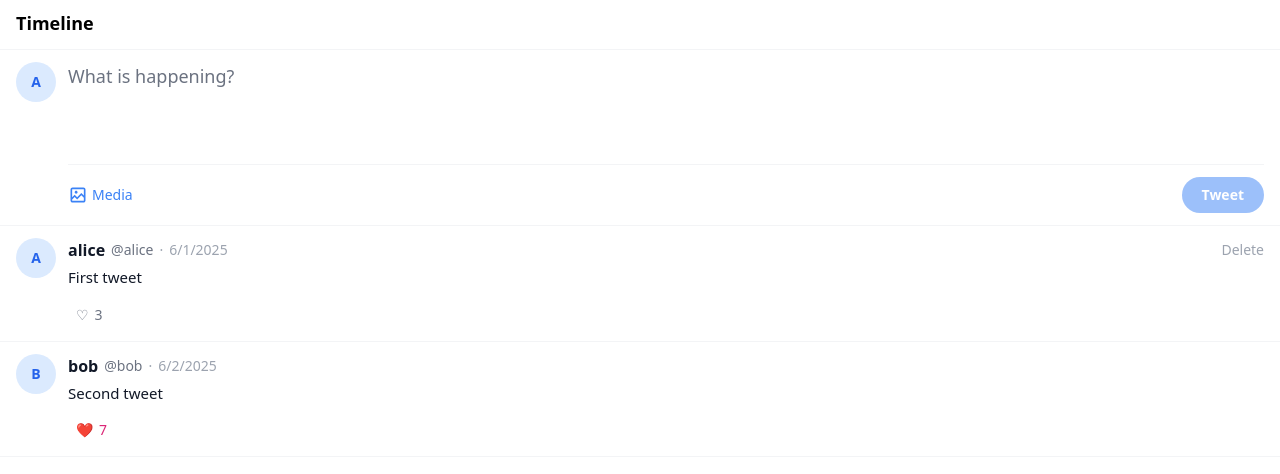
TimelinePage › should remove tweet from UI after successful delete
Expected: the text "First tweet" is shown, [68,267,142,287]
Expected: the text "Second tweet" is shown, [68,382,163,402]
What coordinates should you click on to do the following:
click the button with test id "delete-tweet-button"
I would click on:
 (1243, 250)
Its box is [1221,240,1264,260].
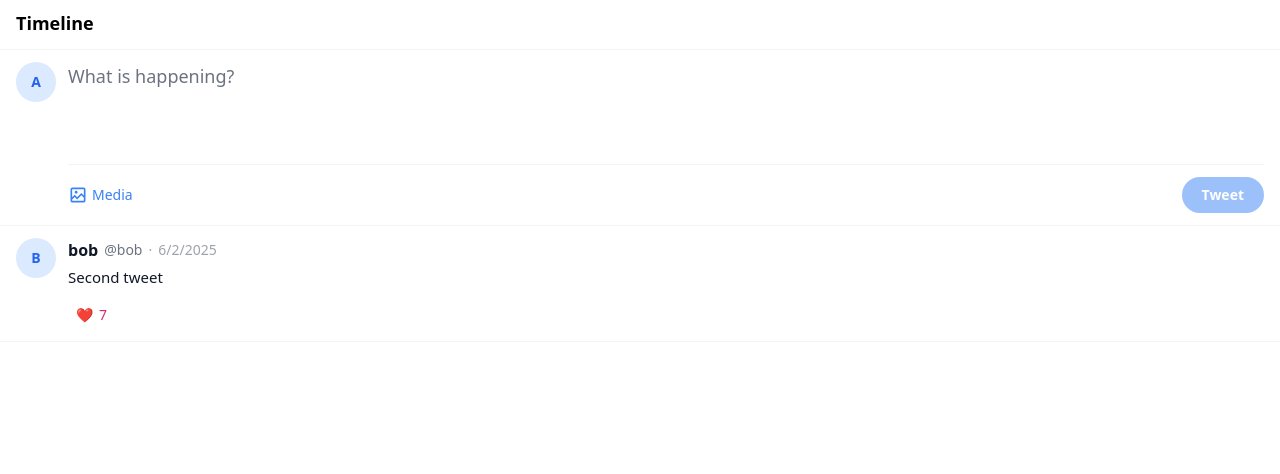
Expected: the text "Second tweet" is shown, [68,267,163,287]
Expected: the text "First tweet" is gone
